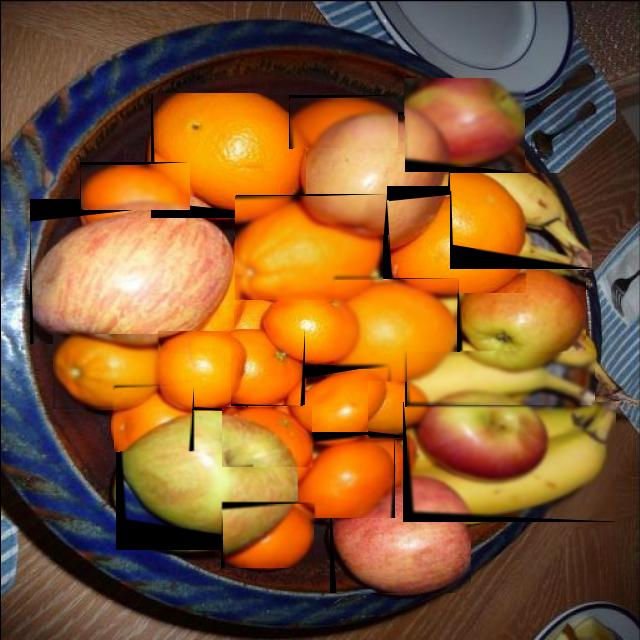0: (119, 412, 300, 537), (331, 486, 470, 593), (459, 271, 584, 369)
2: (334, 280, 455, 384), (52, 334, 159, 409), (297, 437, 392, 518), (158, 331, 245, 409), (292, 370, 386, 436), (222, 505, 313, 567), (221, 408, 311, 467), (114, 387, 190, 451)
Apple: (31, 208, 233, 344), (302, 117, 447, 235), (414, 392, 542, 486), (404, 78, 524, 167)
Banana: (475, 173, 591, 267), (406, 352, 594, 405)
Orange: (151, 93, 304, 213), (234, 197, 381, 299), (388, 192, 524, 293), (230, 329, 302, 406), (289, 98, 396, 148), (80, 165, 188, 209), (367, 382, 427, 435)
a: (406, 403, 614, 517)
